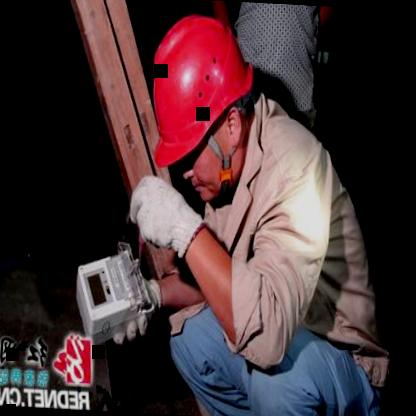helmet: (133, 0, 268, 204)
